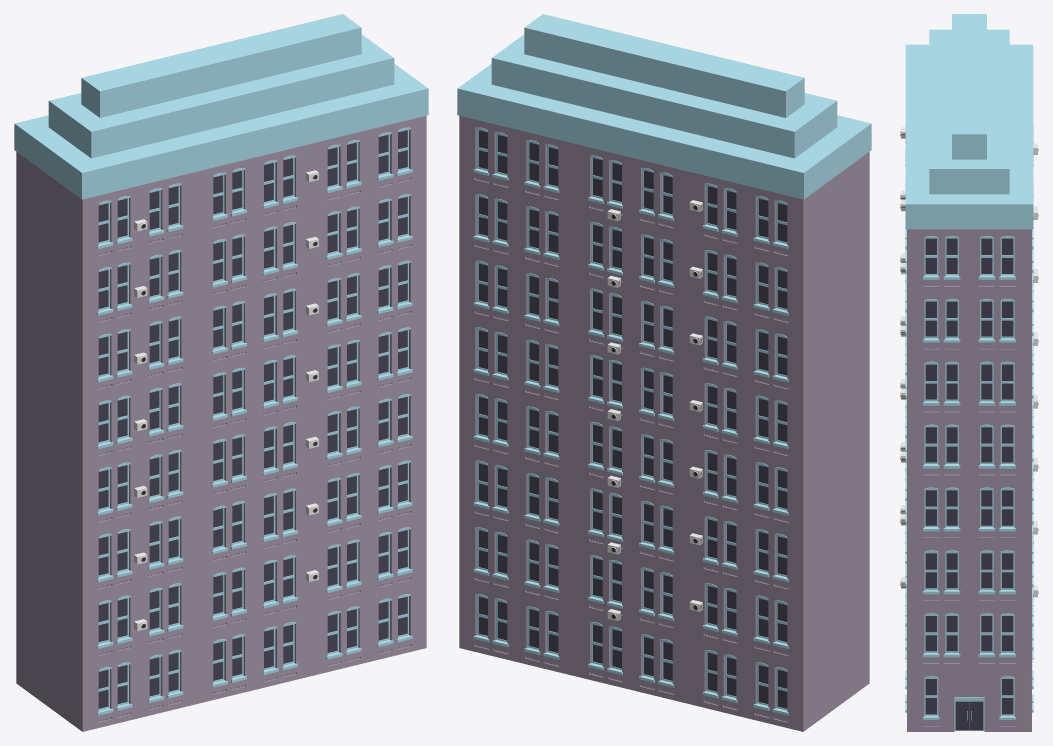
The model's file is Building2.fbx.
3 views of the same model, side by side, from view 1: azimuth 30°, elevation 25°; view 2: azimuth 150°, elevation 25°; view 3: azimuth 270°, elevation 25° (orthographic). The views are drawn at different scales.
Visible parts, largest first — view 1: Plane.030, Plane.018, Plane.012, Plane.015, Plane.016, Plane, Plane.014, Plane.017, Plane.019; view 2: Plane.030, Plane.018, Plane.015, Plane.012, Plane.016, Plane.014, Plane.017, Plane, Plane.019; view 3: Plane.030, Plane.016, Plane.014, Plane.015, Plane.017, Plane.018, Plane.019, Plane.012, Plane.
Part boxes in pixels (box(x1,y1,x2,y2)): Plane.030: box(14, 14, 428, 199); Plane.018: box(16, 181, 426, 331); Plane.012: box(16, 515, 426, 665); Plane.015: box(16, 381, 426, 531); Plane.016: box(16, 315, 426, 465); Plane: box(16, 581, 426, 731); Plane.014: box(16, 448, 426, 598); Plane.017: box(16, 248, 426, 398); Plane.019: box(16, 115, 426, 265); Plane.030: box(457, 14, 871, 199); Plane.018: box(459, 181, 869, 331); Plane.015: box(459, 381, 869, 531); Plane.012: box(459, 515, 869, 665); Plane.016: box(459, 315, 869, 465); Plane.014: box(459, 448, 869, 598); Plane.017: box(459, 248, 869, 398); Plane: box(459, 581, 869, 731); Plane.019: box(459, 115, 869, 265); Plane.030: box(905, 14, 1033, 229); Plane.016: box(900, 316, 1038, 480); Plane.014: box(900, 442, 1038, 606); Plane.015: box(900, 379, 1038, 543); Plane.017: box(900, 253, 1038, 417); Plane.018: box(900, 190, 1038, 354); Plane.019: box(900, 125, 1038, 291); Plane.012: box(900, 505, 1038, 668); Plane: box(905, 597, 1033, 731).
Size of the model in its own units: 2721 by 4600 by 996.
